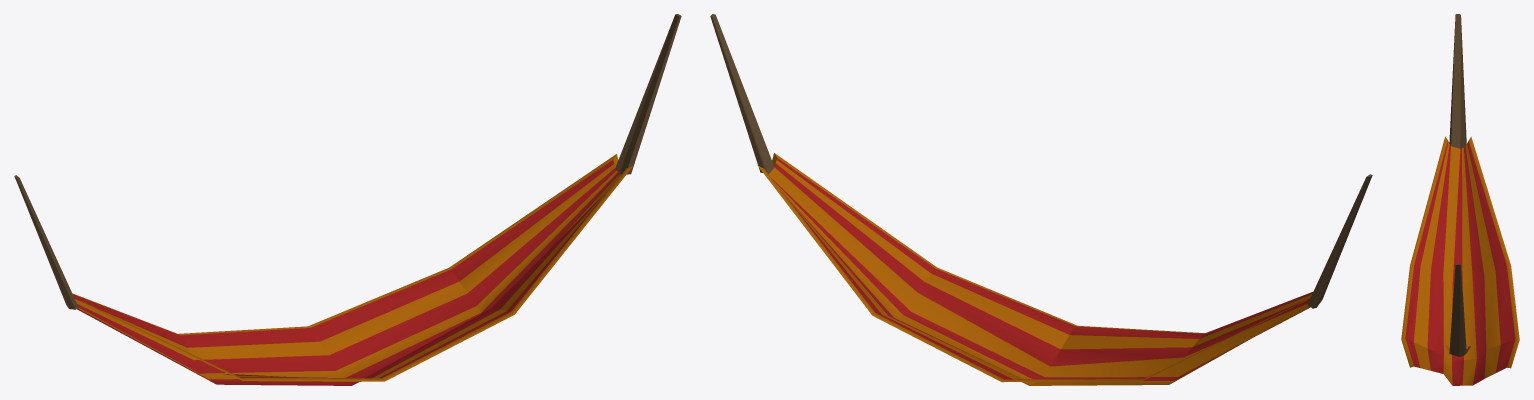
The model's file is Sack Bed.glb.
The picture shows the model from 3 angles, left to right: view 1: azimuth 30°, elevation 25°; view 2: azimuth 150°, elevation 25°; view 3: azimuth 270°, elevation 25°; orthographic projection. The views are drawn at different scales.
Visible parts, largest first — view 1: SM_Hammock:SM_Hammock1; view 2: SM_Hammock:SM_Hammock1; view 3: SM_Hammock:SM_Hammock1.
Boxes of the visible parts, x1,y1,x2,y2 form: SM_Hammock:SM_Hammock1: [14, 14, 681, 385]; SM_Hammock:SM_Hammock1: [710, 14, 1372, 385]; SM_Hammock:SM_Hammock1: [1401, 14, 1519, 385].
Size of the model in its own units: 4.61 by 1.9 by 0.9212.
